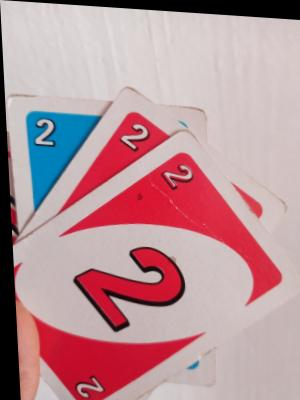blue: (8, 90, 114, 233)
num_2: (62, 234, 189, 338), (23, 113, 65, 155), (155, 153, 198, 191), (114, 116, 154, 152), (61, 369, 105, 400)
